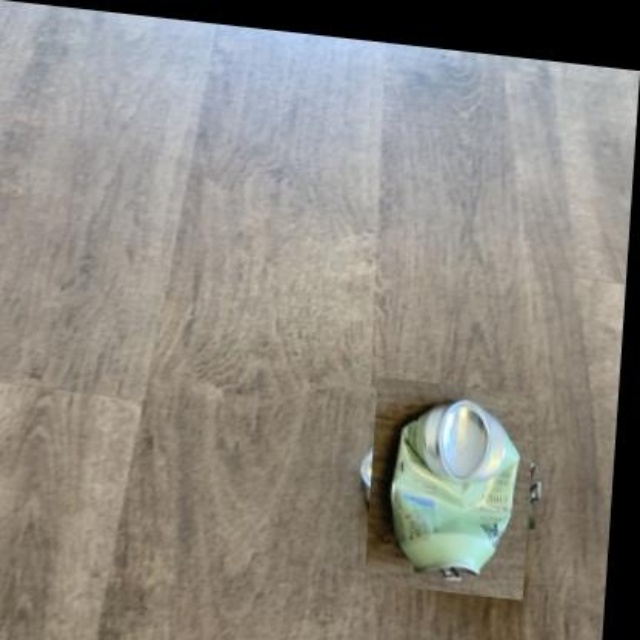trash: (391, 398, 518, 572)
